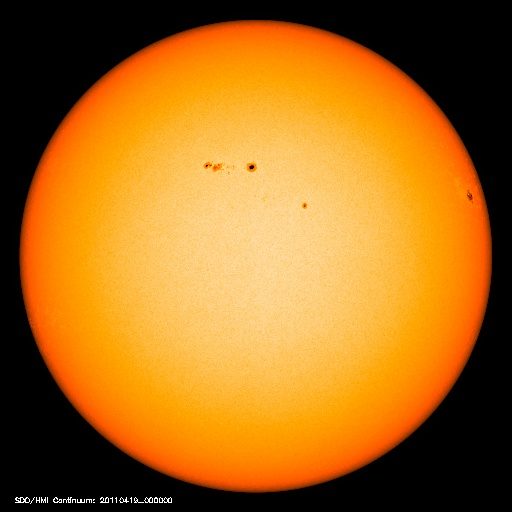sunspot: (195, 152, 267, 185), (455, 182, 486, 217), (291, 193, 321, 225)
